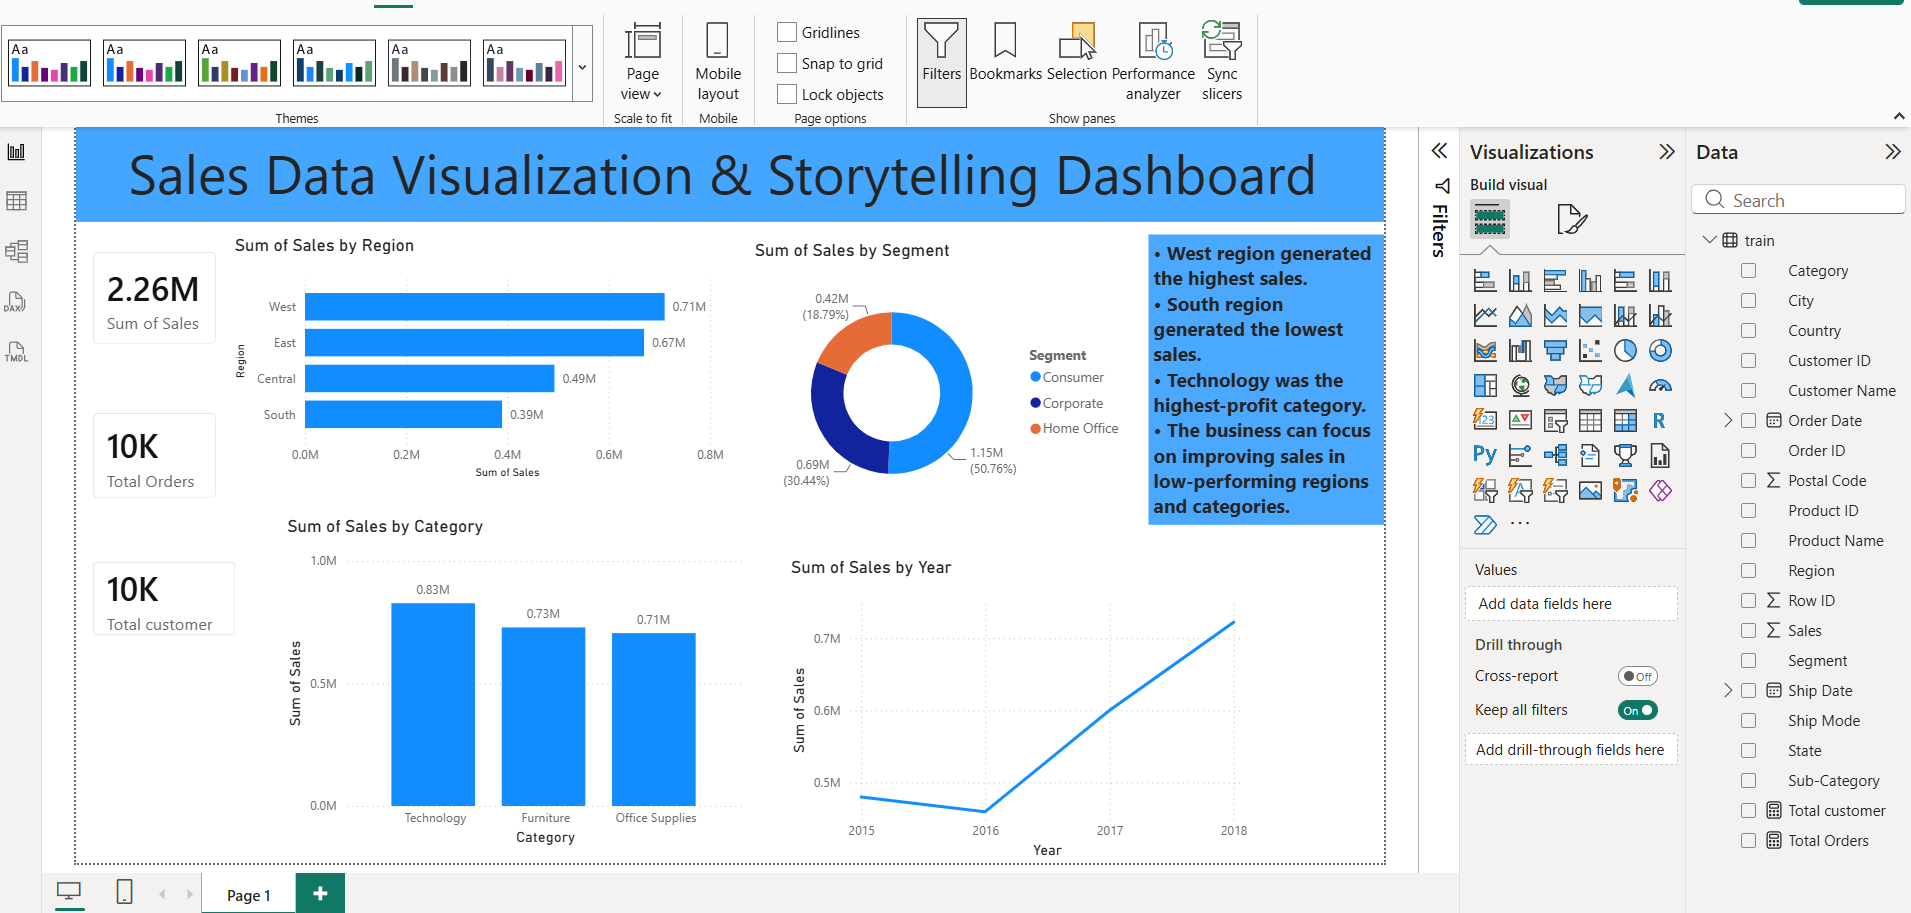

Layout of this report page (visuals, bound fields, positions):
{"tool":"powerbi","page":{"name":"Page 1","canvas":[1280,720],"ordinal":0},"visuals":[{"type":"cardVisual","fields":{"Data":["Sum(train.Sales)"]},"box":[0,105.2,154.1,124.7],"z":0},{"type":"clusteredBarChart","fields":{"Y":["Sum(train.Sales)"],"Category":["train.Region"]},"box":[150.4,105.2,489.1,243.3],"z":1000},{"type":"clusteredColumnChart","fields":{"Category":["train.Category"],"Y":["Sum(train.Sales)"]},"box":[201.8,380.3,457.3,327.7],"z":2000},{"type":"lineChart","fields":{"Category":["train.Order Date.Variation.Date Hierarchy.Year","train.Order Date.Variation.Date Hierarchy.Quarter","train.Order Date.Variation.Date Hierarchy.Month","train.Order Date.Variation.Date Hierarchy.Day"],"Y":["Sum(train.Sales)"]},"box":[694.6,420.7,456.1,299.6],"z":3000},{"type":"donutChart","fields":{"Y":["Sum(train.Sales)"],"Category":["train.Segment"]},"box":[659.1,110.1,375.4,270.2],"z":3001},{"type":"cardVisual","fields":{"Data":["train.Total Orders"]},"box":[0,262.9,154.1,117.4],"z":3002},{"type":"cardVisual","fields":{"Data":["train.Total customer"]},"box":[0,408.4,173.6,106.4],"z":3003},{"type":"textbox","box":[0,0,1280.3,92.9],"z":3004},{"type":"textbox","box":[1049.2,105.2,231.1,283.7],"z":3005}]}

Visuals, with their boxes on the page's 1280x720 design canvas (x1, y1, x2, y2). These are canvas units, not pixel positions in the 1911x913 screenshot, which may show the page scaled, cropped or inside an application window:
cardVisual - Sum(train.Sales): crop(0, 105, 154, 230)
clusteredBarChart - Sum(train.Sales) x train.Region: crop(150, 105, 640, 348)
clusteredColumnChart - train.Category x Sum(train.Sales): crop(202, 380, 659, 708)
lineChart - train.Order Date.Variation.Date Hierarchy.Year x train.Order Date.Variation.Date Hierarchy.Quarter: crop(695, 421, 1151, 720)
donutChart - Sum(train.Sales) x train.Segment: crop(659, 110, 1034, 380)
cardVisual - train.Total Orders: crop(0, 263, 154, 380)
cardVisual - train.Total customer: crop(0, 408, 174, 515)
textbox: crop(0, 0, 1280, 93)
textbox: crop(1049, 105, 1280, 389)
